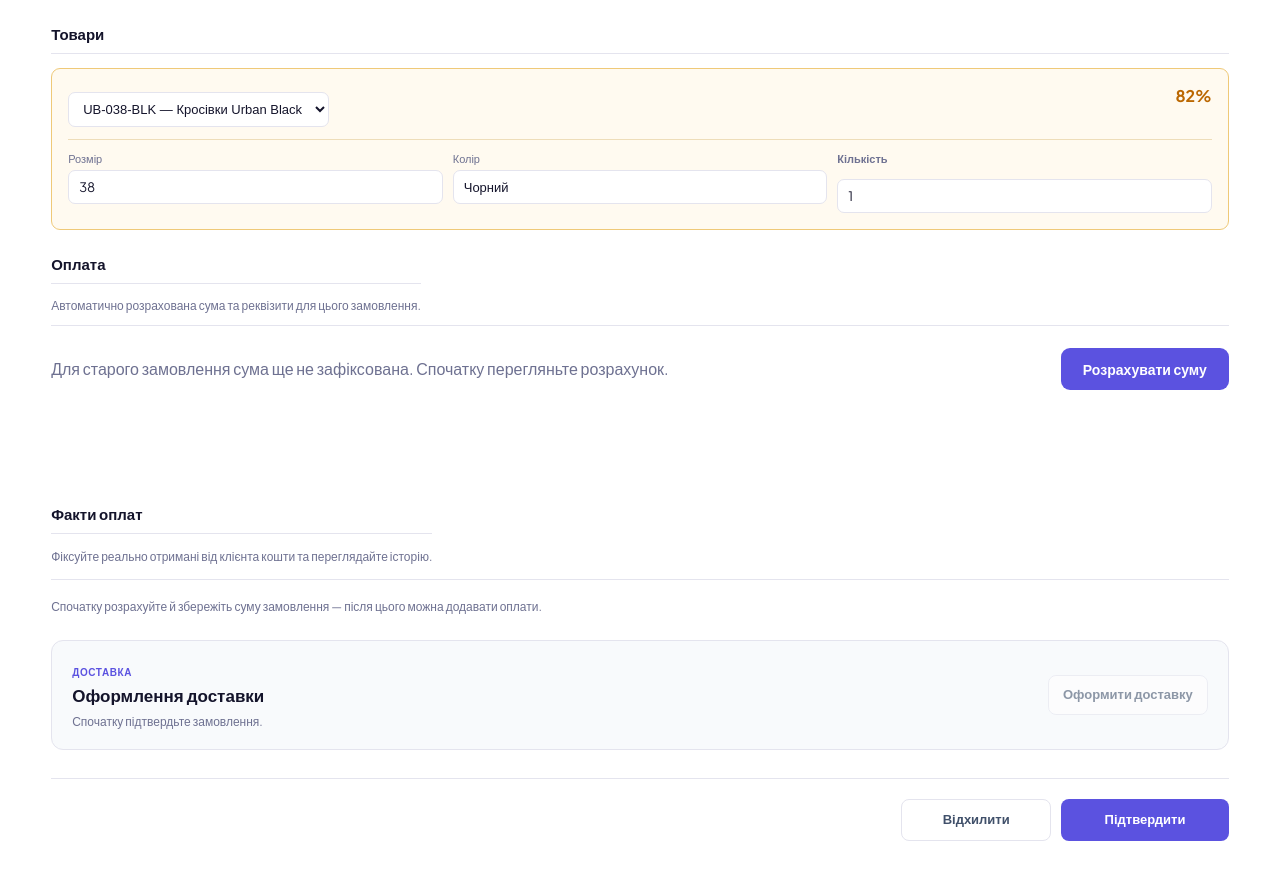
OrderReviewPanel › shows a pending Sheets export immediately after approval
(page scrolled)
Click the button "Підтвердити".
click(1145, 820)  # box [1061,799,1229,841]
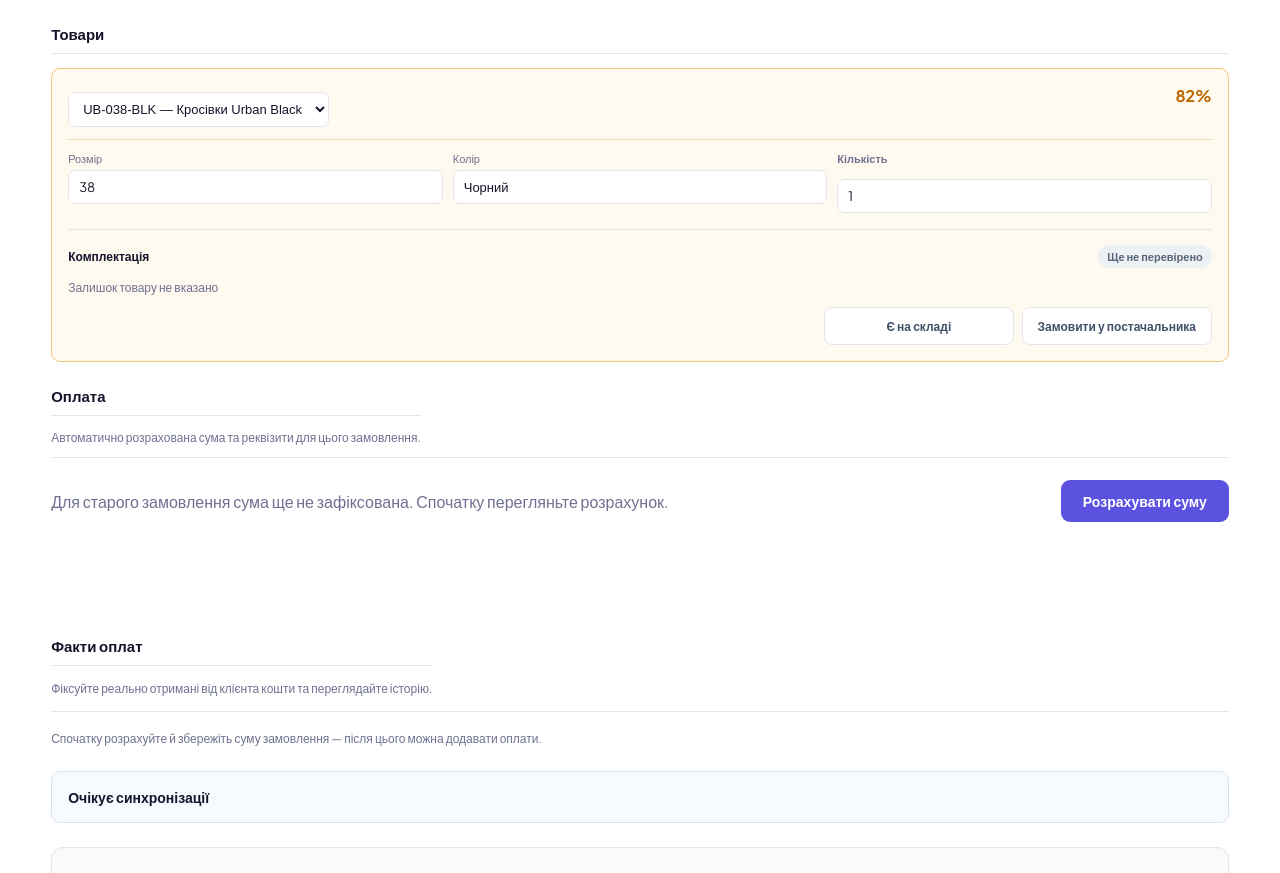
expect the heading "Очікує синхронізації" is shown: met, box [68,788,209,806]
